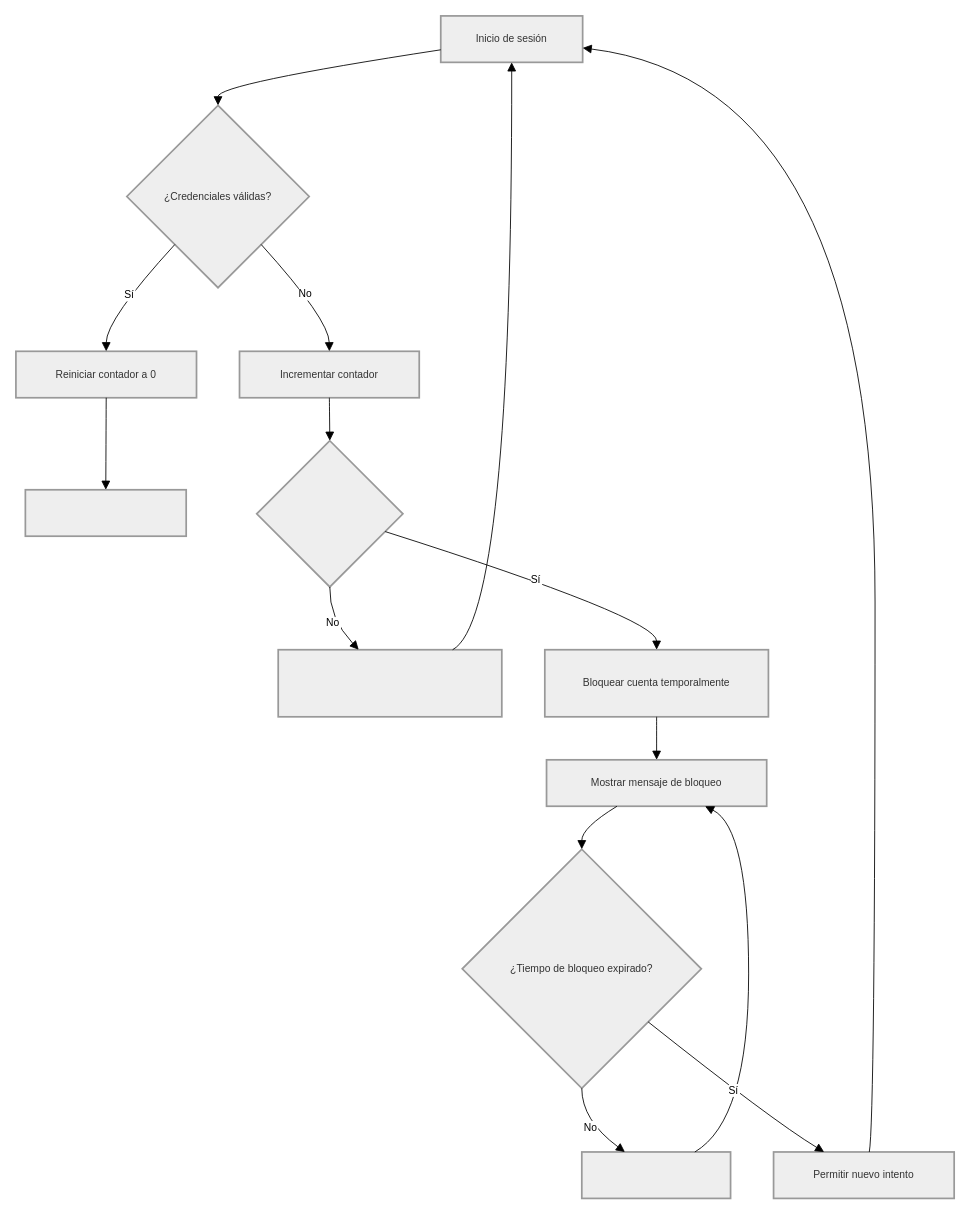
This 969x1213 diagram has some shape labels left out. The shapes that lost their labels are listed below. From the top down, each one's box as (x1, y1, x2, y2) in pixels, then its label:
(24, 488, 187, 537): Acceso concedido
(255, 439, 403, 587): ¿Contador >= 5?
(277, 648, 502, 717): Mostrar error de credenciales
(580, 1151, 731, 1199): Denegar acceso
